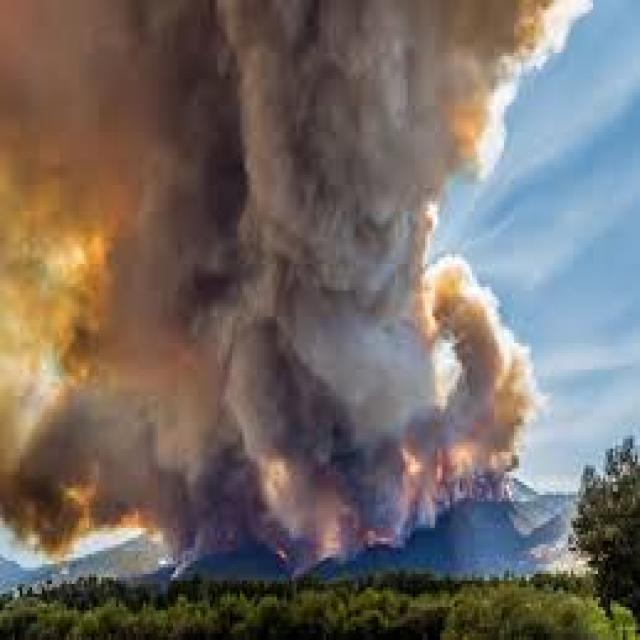Smoke: (0, 0, 591, 549)
